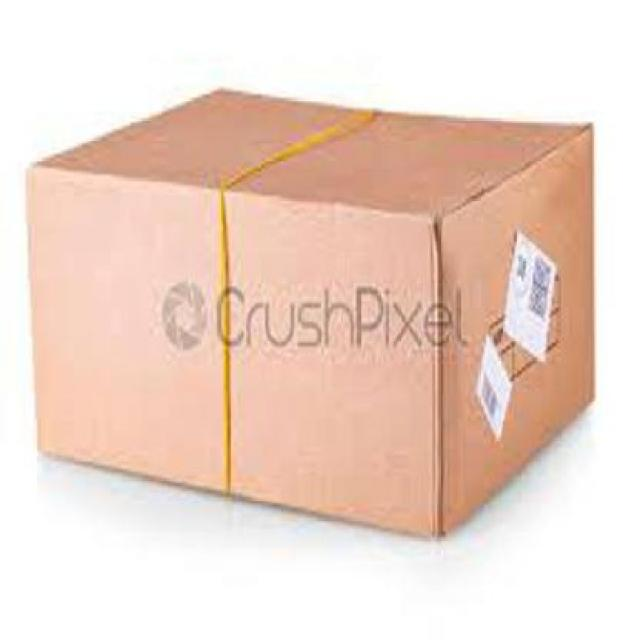normal: (18, 86, 604, 548)
